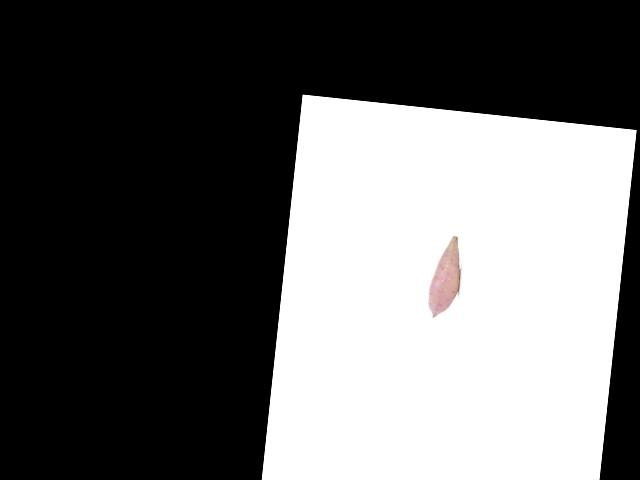sweet_potato: (426, 233, 462, 320)
